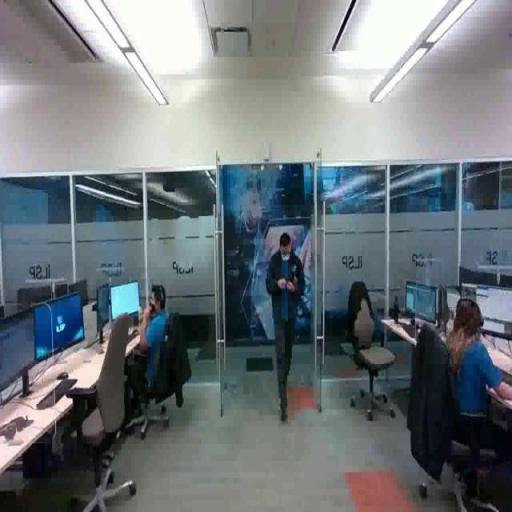person: (267, 233, 308, 428)
